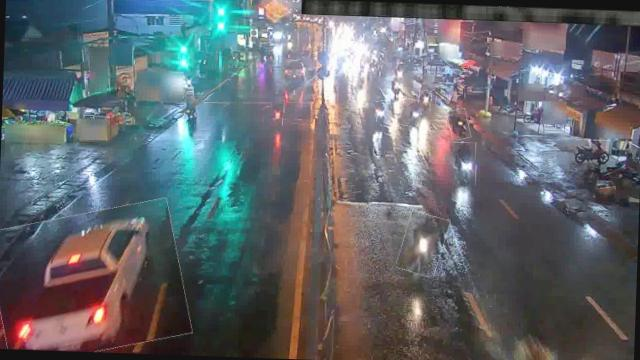Bike: (399, 211, 447, 276), (452, 142, 476, 186), (574, 140, 612, 165), (448, 109, 470, 141), (400, 99, 422, 127), (185, 94, 200, 122), (375, 100, 392, 122), (271, 100, 284, 126), (391, 76, 404, 101), (418, 90, 432, 111), (395, 64, 405, 82)
Car: (0, 201, 190, 355)
